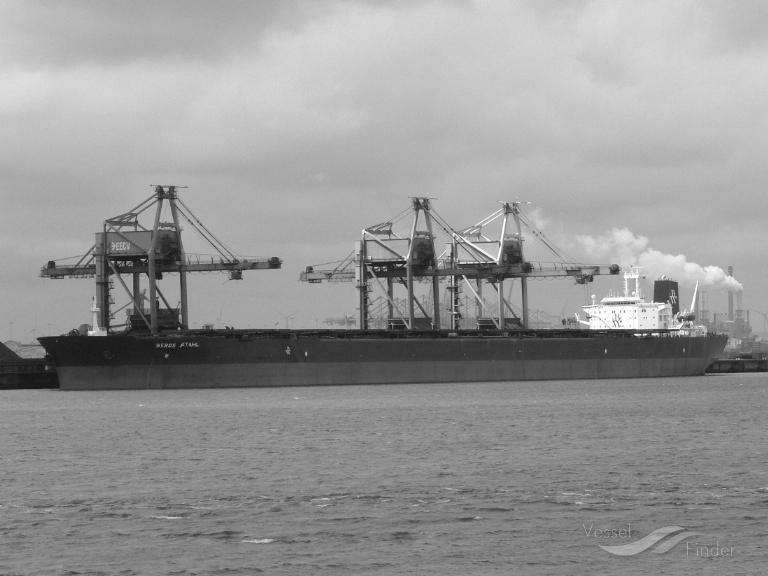OCR: (149, 337, 207, 354)
